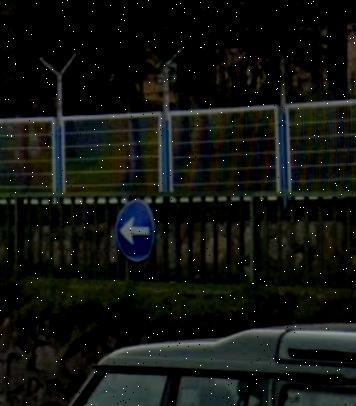turnleft: (115, 200, 156, 261)
